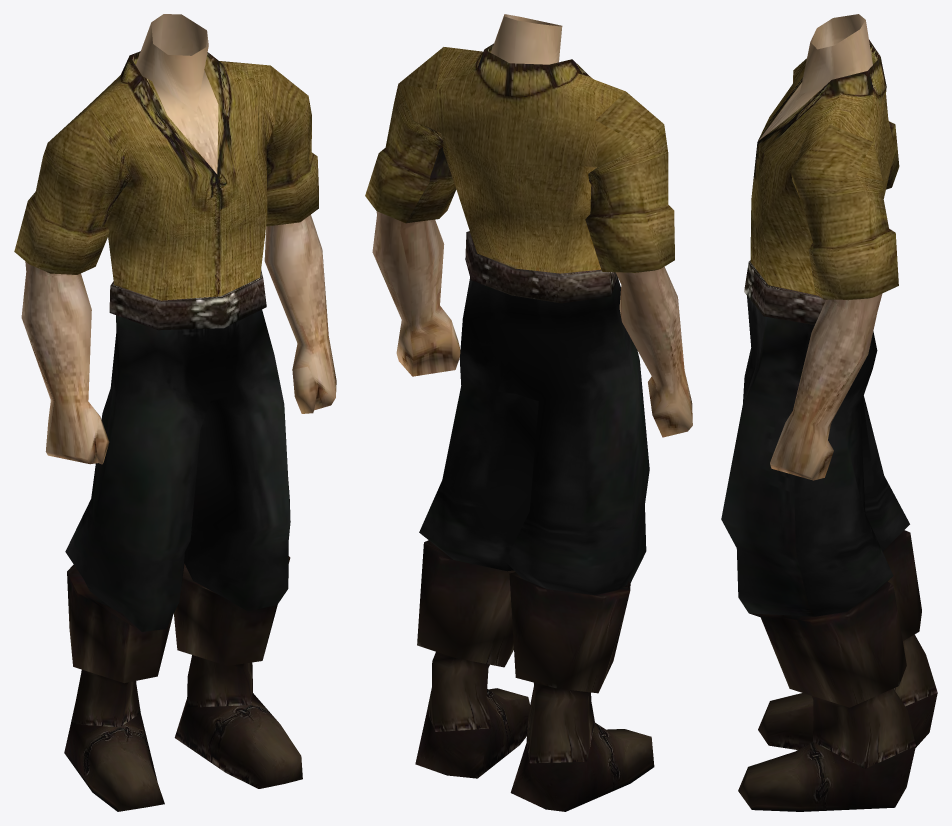
Rendered from KOSZULA_ZOLTA.glb.
The picture shows the model from 3 angles, left to right: view 1: azimuth 30°, elevation 25°; view 2: azimuth 150°, elevation 25°; view 3: azimuth 270°, elevation 25°; orthographic projection.
Visible parts, largest first — view 1: KOSZULA_ZOLTA; view 2: KOSZULA_ZOLTA; view 3: KOSZULA_ZOLTA.
Part boxes in pixels (x1,y1,x2,y2): KOSZULA_ZOLTA: (14,14,336,811); KOSZULA_ZOLTA: (365,14,692,811); KOSZULA_ZOLTA: (721,14,937,811).
Size of the model in its own units: 0.6885 by 1.68 by 0.4402.
2 materials, 2 textured.
